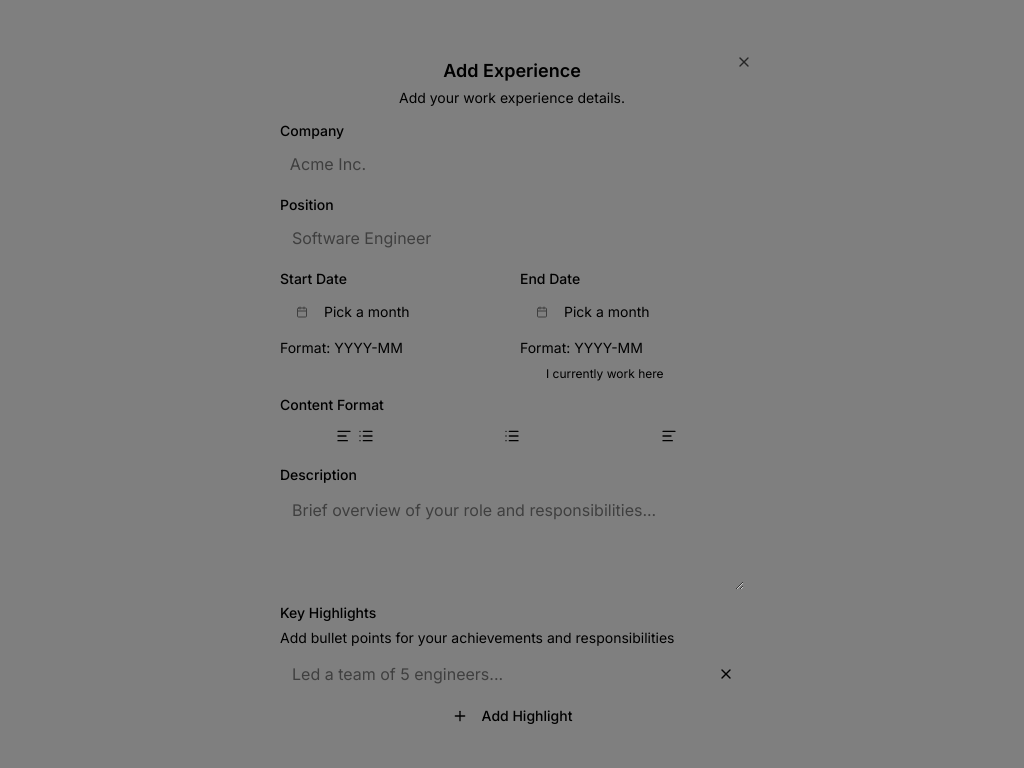
Scenario: ExperienceFormDialog › Highlights Management › allows adding highlights
Click the button "Add Highlight". click: (512, 716)
box: [280,700,744,732]
(page scrolled)
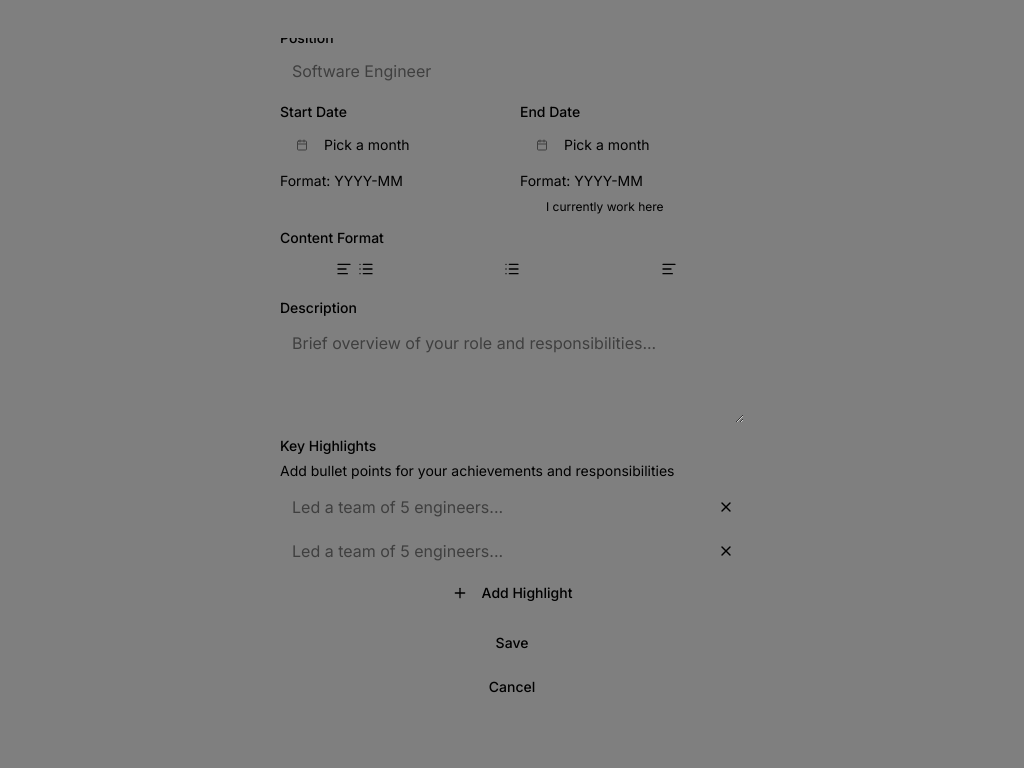
Click the button "Add Highlight". click: (512, 593)
box: [280,577,744,609]
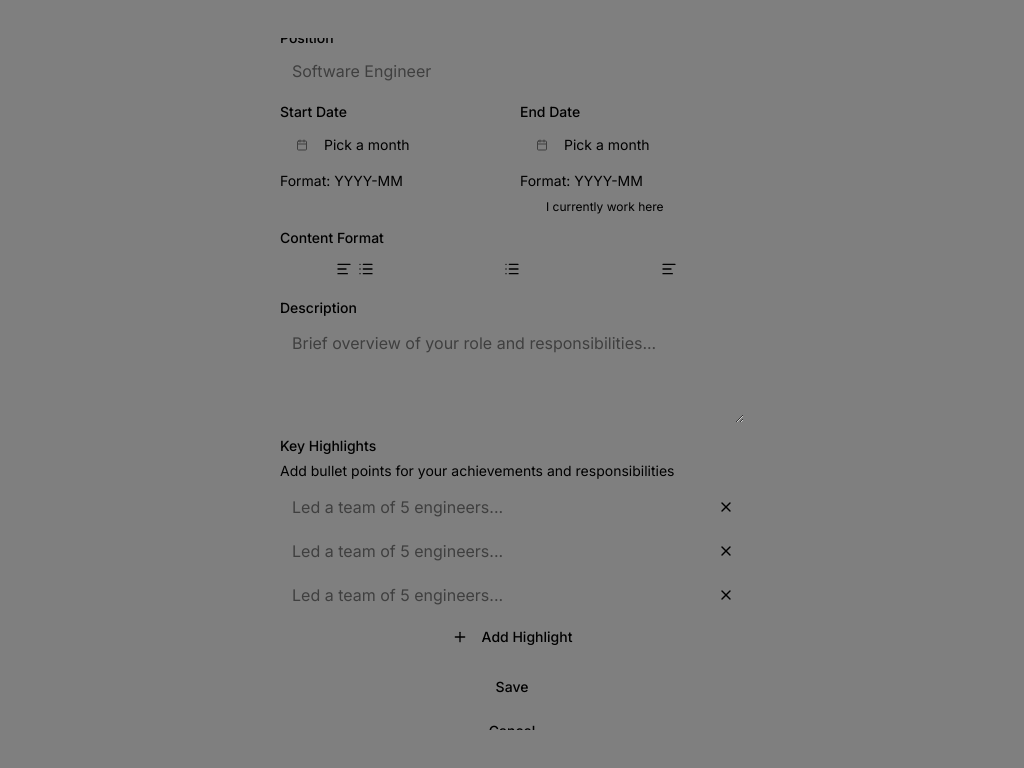
Check: the number of fields with placeholder "Led a team of 5 engineers..." is 3, box [280,489,700,525]; [280,533,700,569]; [280,577,700,613]
